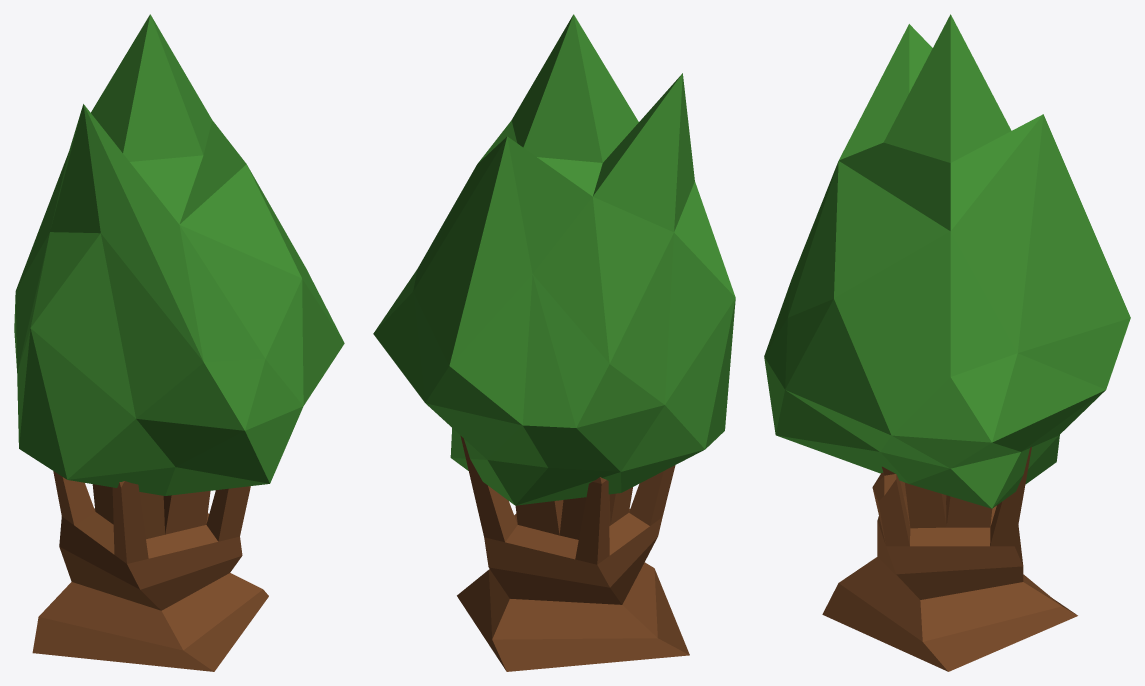
File: Bush.glb
3 renders of one model, left to right at view 1: azimuth 30°, elevation 25°; view 2: azimuth 150°, elevation 25°; view 3: azimuth 270°, elevation 25°, orthographic.
Parts seen in each view (by area): view 1: Cube; view 2: Cube; view 3: Cube.
Part boxes in pixels (x1,y1,x2,y2): Cube: (14,14,344,671); Cube: (373,14,735,671); Cube: (764,14,1130,671).
Bounding box in the file's own units: 5.66 × 10.34 × 5.71.
